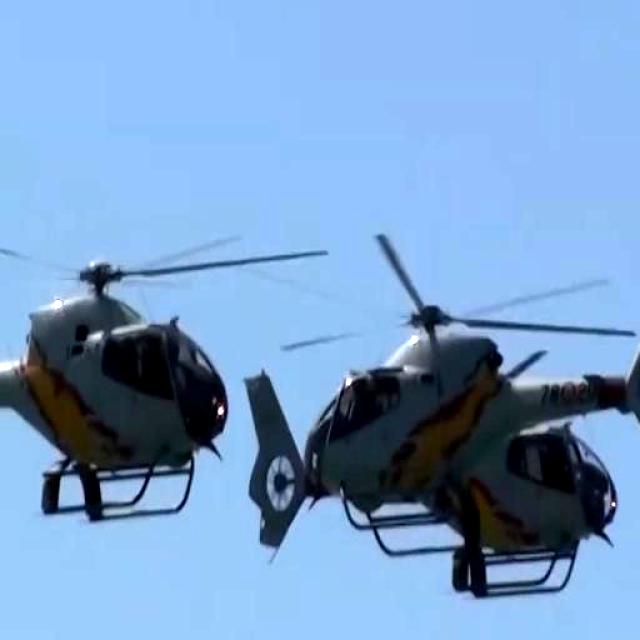drone: (258, 209, 640, 622), (0, 179, 224, 540)
